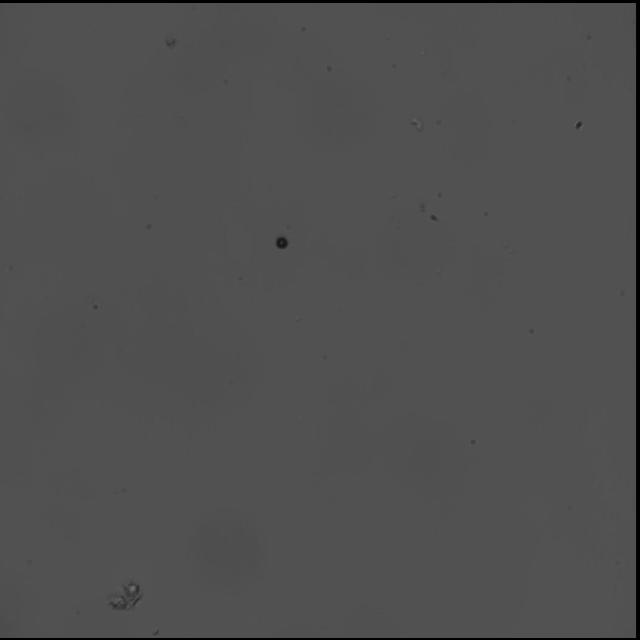microbeads: (274, 233, 290, 251)
